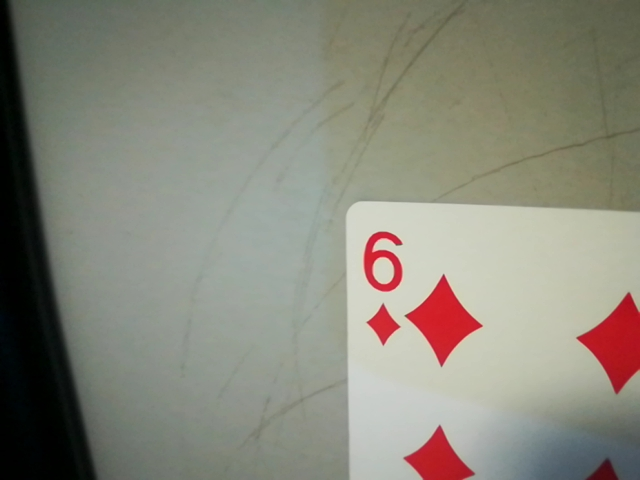fk 6: (350, 223, 412, 350)
